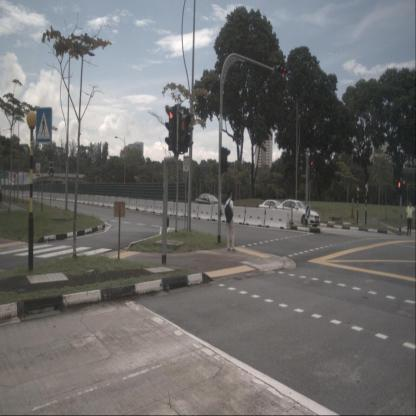human-pedestrian-adult: (226, 190, 236, 252)
movable_object-barrier: (264, 207, 291, 230), (244, 206, 265, 226), (228, 204, 245, 226), (212, 204, 228, 224), (184, 202, 198, 220), (198, 204, 212, 222), (173, 200, 186, 218), (163, 200, 174, 216), (154, 200, 164, 216), (145, 199, 154, 214), (137, 199, 146, 213), (128, 199, 138, 210), (115, 196, 122, 210), (104, 196, 111, 208), (122, 198, 129, 210), (98, 196, 105, 206), (110, 197, 116, 207), (93, 195, 98, 205), (70, 193, 75, 202), (74, 194, 79, 203), (83, 194, 88, 203), (89, 195, 93, 205), (80, 194, 84, 203), (66, 193, 70, 202), (58, 193, 63, 200), (54, 192, 58, 200), (38, 192, 42, 200), (48, 193, 52, 200), (63, 192, 66, 200), (51, 192, 54, 200), (32, 190, 35, 197), (29, 190, 32, 197), (44, 192, 47, 199), (46, 193, 49, 200), (35, 191, 38, 198), (26, 192, 30, 196), (22, 191, 25, 196), (24, 191, 27, 196), (42, 192, 44, 199), (40, 192, 42, 199)
movable_object-trafficcone: (350, 197, 356, 218)
vehicle-car: (276, 200, 320, 227), (195, 193, 223, 212), (259, 200, 287, 216)
